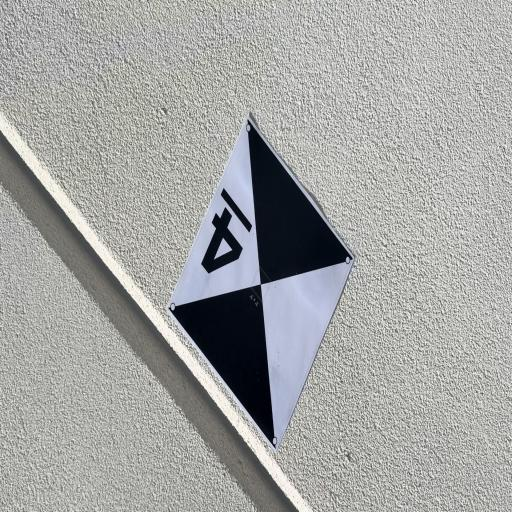target4: (167, 119, 356, 451)
